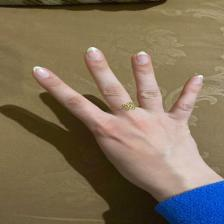four: (22, 46, 214, 180)
